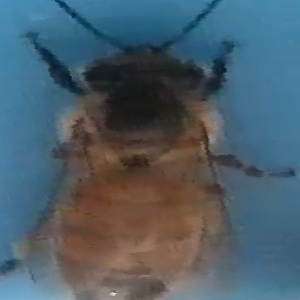bee: (23, 25, 273, 300)
